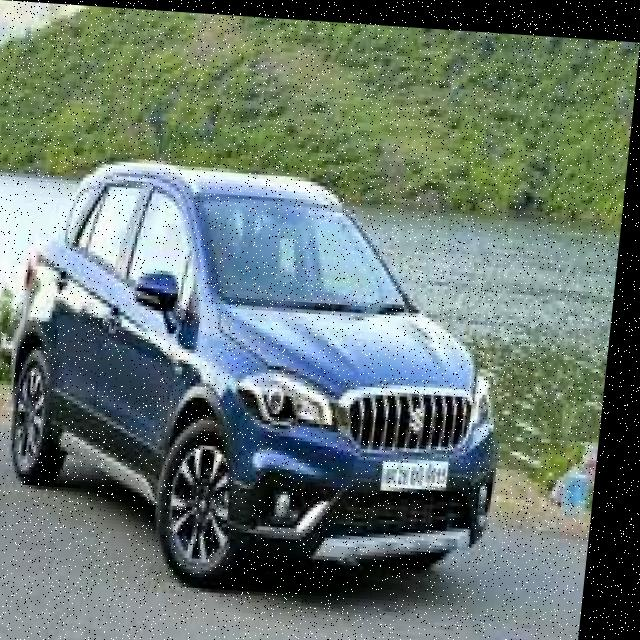car: (0, 117, 549, 622)
